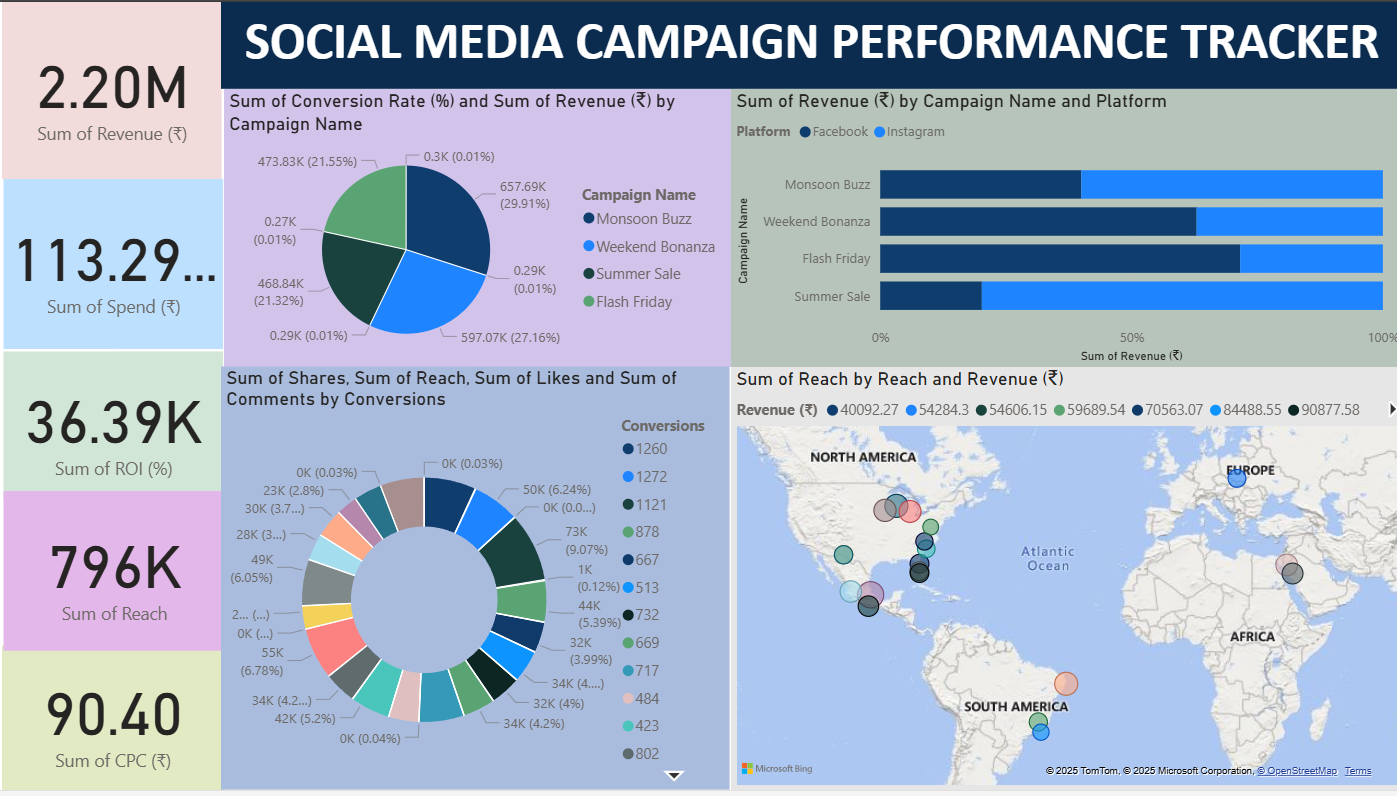

What the dashboard file says about the page in this screenshot:
{"tool":"powerbi","page":{"name":"Page 1","canvas":[1280,720],"ordinal":0},"visuals":[{"type":"card","fields":{"Values":["Sum(Sheet1.Revenue (₹))"]},"box":[0,0,200.8,161.9],"z":0},{"type":"card","fields":{"Values":["Sum(Sheet1.Spend (₹))"]},"box":[1.6,161.9,200.8,155.4],"z":1000},{"type":"card","fields":{"Values":["Sum(Sheet1.ROI (%))"]},"box":[1.6,319,200.8,136],"z":2000},{"type":"card","fields":{"Values":["Sum(Sheet1.CPC (₹))"]},"box":[0,587.8,202.4,132.8],"z":3000},{"type":"card","fields":{"Values":["Sum(Sheet1.Reach)"]},"box":[1.6,446.9,202.4,145.7],"z":4000},{"type":"map","fields":{"Size":["Sum(Sheet1.Reach)"],"Category":["Sheet1.Reach"],"Series":["Sheet1.Revenue (₹)"]},"box":[665.5,333.6,615.3,387],"z":5000},{"type":"pieChart","fields":{"Category":["Sheet1.Campaign Name"],"Y":["Sum(Sheet1.Conversion Rate (%))","Sum(Sheet1.Revenue (₹))"]},"box":[202.4,79.3,463.1,254.2],"z":6000},{"type":"donutChart","fields":{"Y":["Sum(Sheet1.Shares)","Sum(Sheet1.Reach)","Sum(Sheet1.Likes)","Sum(Sheet1.Comments)"],"Category":["Sheet1.Conversions"]},"box":[200.8,333.6,464.7,387],"z":7000},{"type":"hundredPercentStackedBarChart","fields":{"Category":["Sheet1.Campaign Name"],"Series":["Sheet1.Platform"],"Y":["Sum(Sheet1.Revenue (₹))"]},"box":[665.5,79.3,615.3,254.2],"z":8000},{"type":"textbox","box":[200.8,0,1080,79.3],"z":9000}]}

Visuals, with their boxes in screenshot pixels (x1, y1, x2, y2), scaled from the page's 1280x720 canvas onto the 1397x796 screenshot:
card - Sum(Sheet1.Revenue (₹)): x1=0, y1=0, x2=219, y2=179
card - Sum(Sheet1.Spend (₹)): x1=2, y1=179, x2=221, y2=351
card - Sum(Sheet1.ROI (%)): x1=2, y1=353, x2=221, y2=503
card - Sum(Sheet1.CPC (₹)): x1=0, y1=650, x2=221, y2=795
card - Sum(Sheet1.Reach): x1=2, y1=494, x2=223, y2=655
map - Sum(Sheet1.Reach) x Sheet1.Reach: x1=726, y1=369, x2=1396, y2=795
pieChart - Sheet1.Campaign Name x Sum(Sheet1.Conversion Rate (%)): x1=221, y1=88, x2=726, y2=369
donutChart - Sum(Sheet1.Shares) x Sum(Sheet1.Reach): x1=219, y1=369, x2=726, y2=795
hundredPercentStackedBarChart - Sheet1.Campaign Name x Sheet1.Platform: x1=726, y1=88, x2=1396, y2=369
textbox: x1=219, y1=0, x2=1396, y2=88
